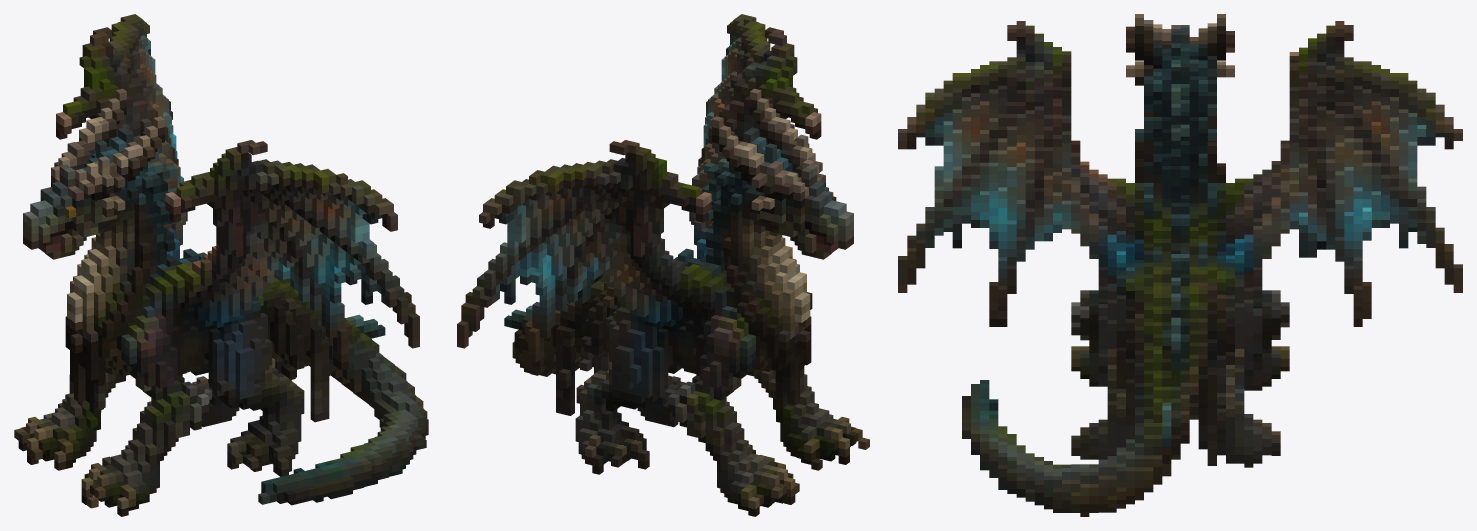
Rendered from u_vouivre.glb.
3 renders of one model, left to right at view 1: azimuth 30°, elevation 25°; view 2: azimuth 150°, elevation 25°; view 3: azimuth 270°, elevation 25°, orthographic. The views are drawn at different scales.
Parts seen in each view (by area): view 1: vouivre_body; view 2: vouivre_body; view 3: vouivre_body.
Part boxes in pixels (x1,y1,x2,y2): vouivre_body: (14,14,428,516); vouivre_body: (457,14,869,516); vouivre_body: (898,14,1462,516).
Bounding box in the file's own units: 1.15 × 1.12 × 1.45.
1 material, 1 textured.
